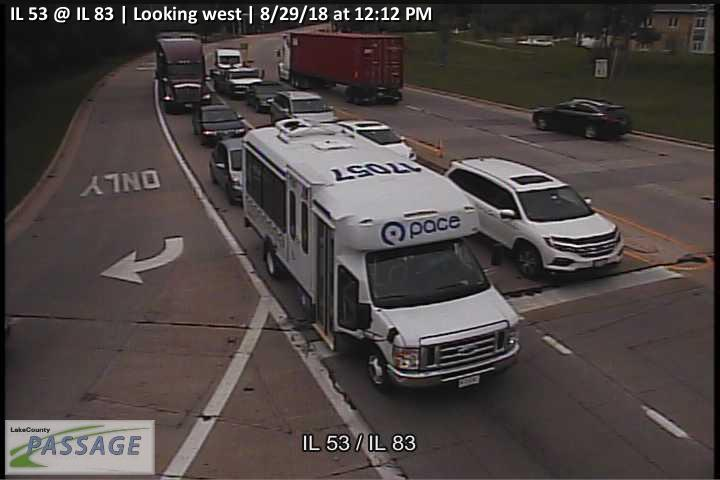SUV: (441, 156, 624, 279), (532, 98, 632, 141), (338, 118, 417, 165), (270, 90, 337, 131)
Sedan: (208, 137, 260, 206), (190, 104, 246, 147), (247, 80, 290, 113)
Truck: (242, 118, 522, 391), (276, 27, 405, 104), (155, 30, 211, 114), (210, 47, 265, 98)
